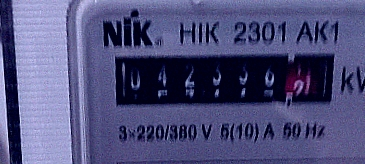0: (127, 62, 142, 92)
2: (179, 59, 199, 88)
3: (206, 57, 224, 88), (235, 56, 251, 85)
4: (153, 61, 171, 89)
6: (260, 60, 277, 88)
screen: (101, 29, 346, 129)
